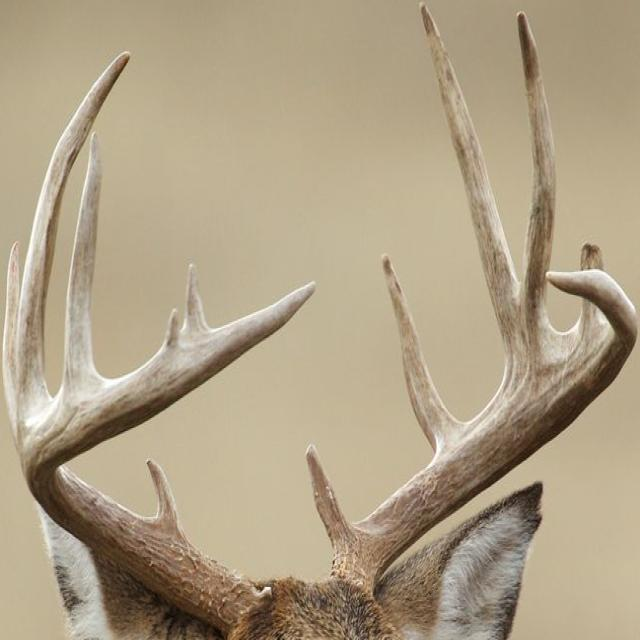E1: (163, 308, 179, 347)
E2: (182, 261, 211, 330)
L-F: (327, 269, 639, 597)
L-G1: (305, 444, 358, 564)
L-G2: (381, 249, 460, 454)
L-G3: (421, 3, 555, 382)
L-G4: (516, 8, 558, 299)
R-F: (15, 279, 318, 638)
R-G1: (146, 457, 186, 538)
R-G3: (15, 50, 132, 435)
R-G4: (57, 130, 105, 398)
